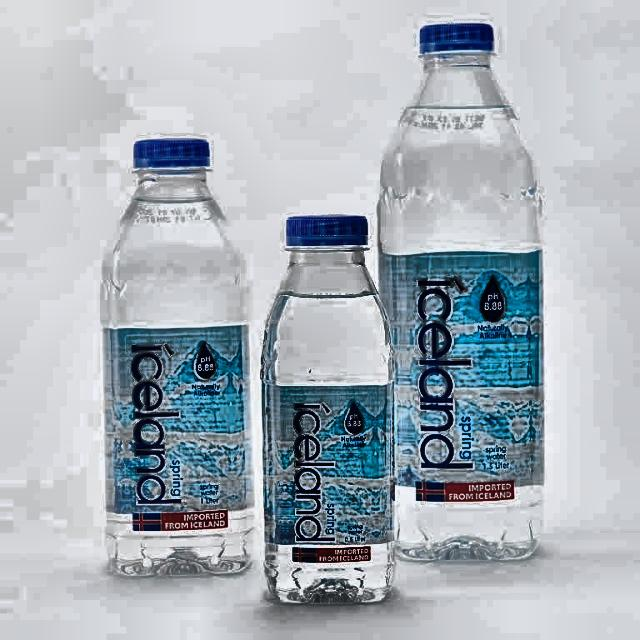Bottles: (366, 19, 560, 576), (95, 130, 260, 594), (255, 211, 410, 611)
